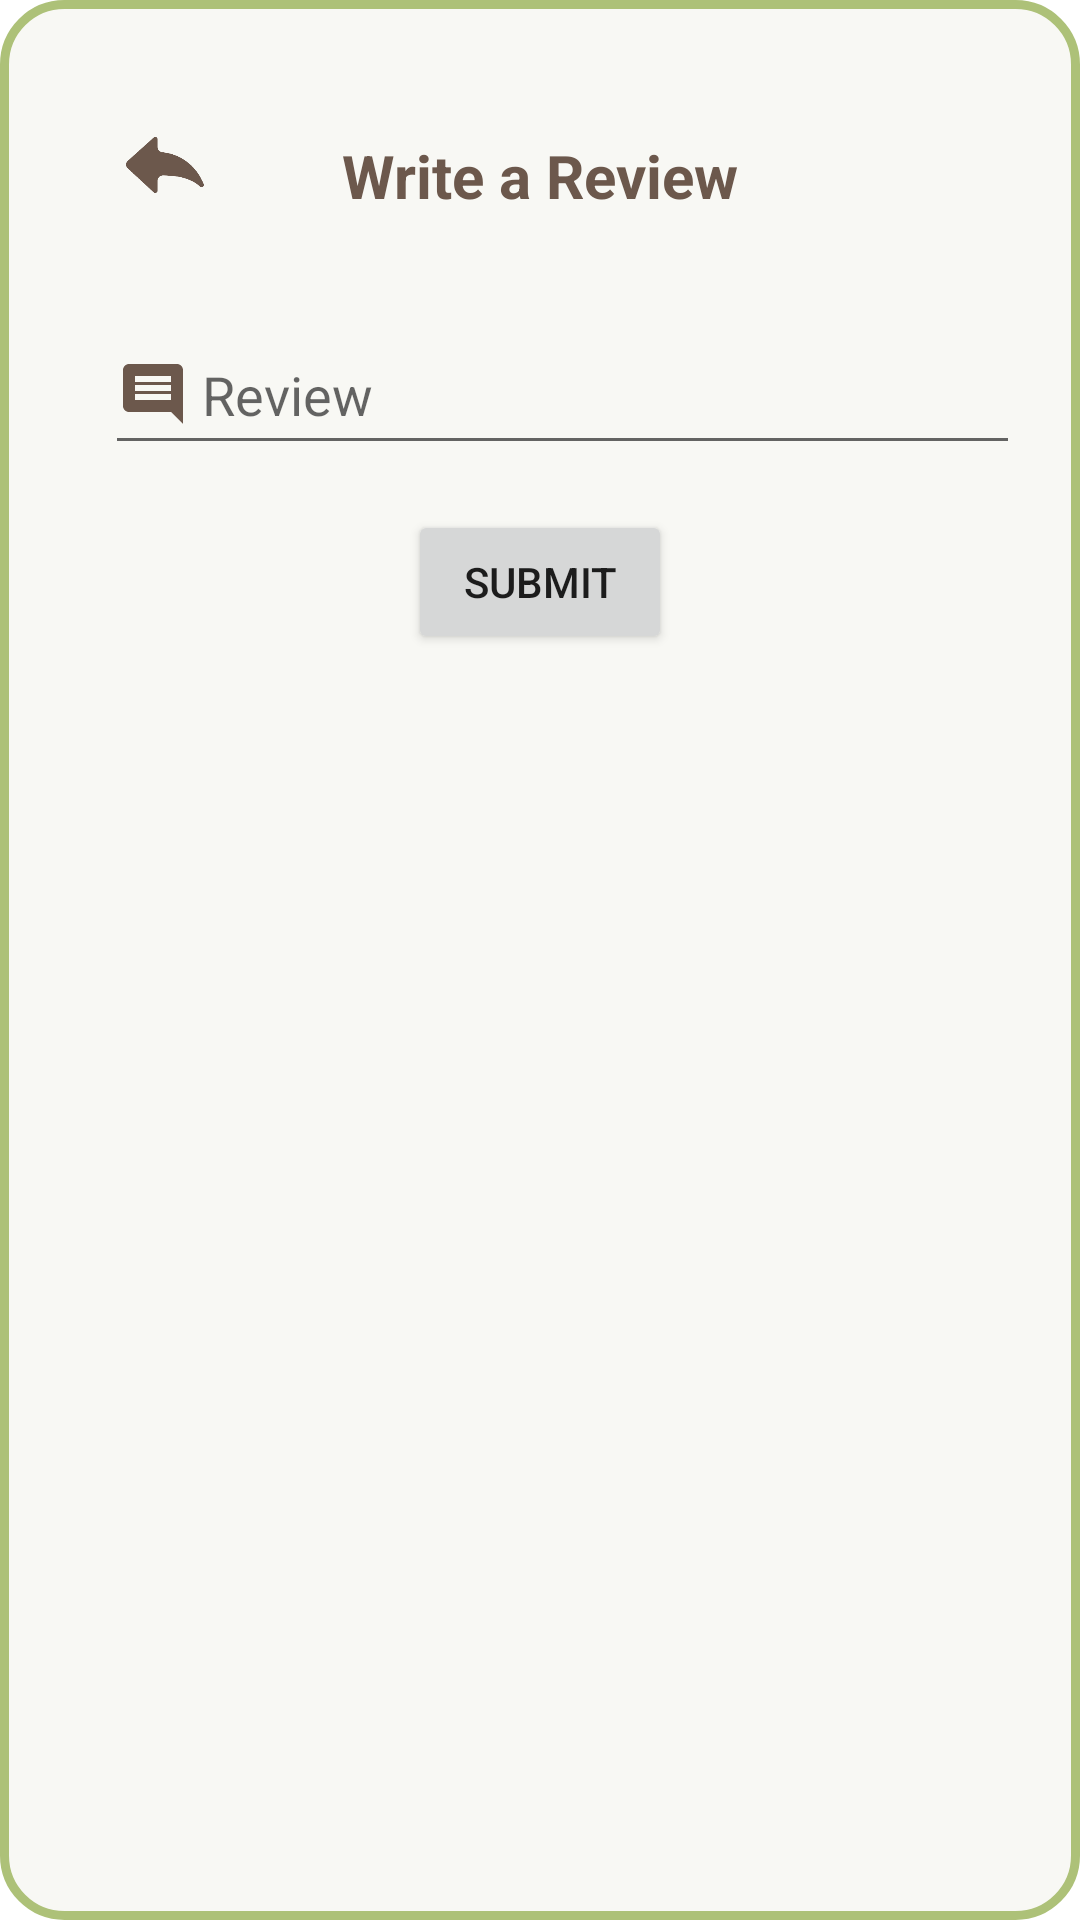

Where to tap for icons on this 1080*1920 app screen, as [x,y]:
back: [165,165]
